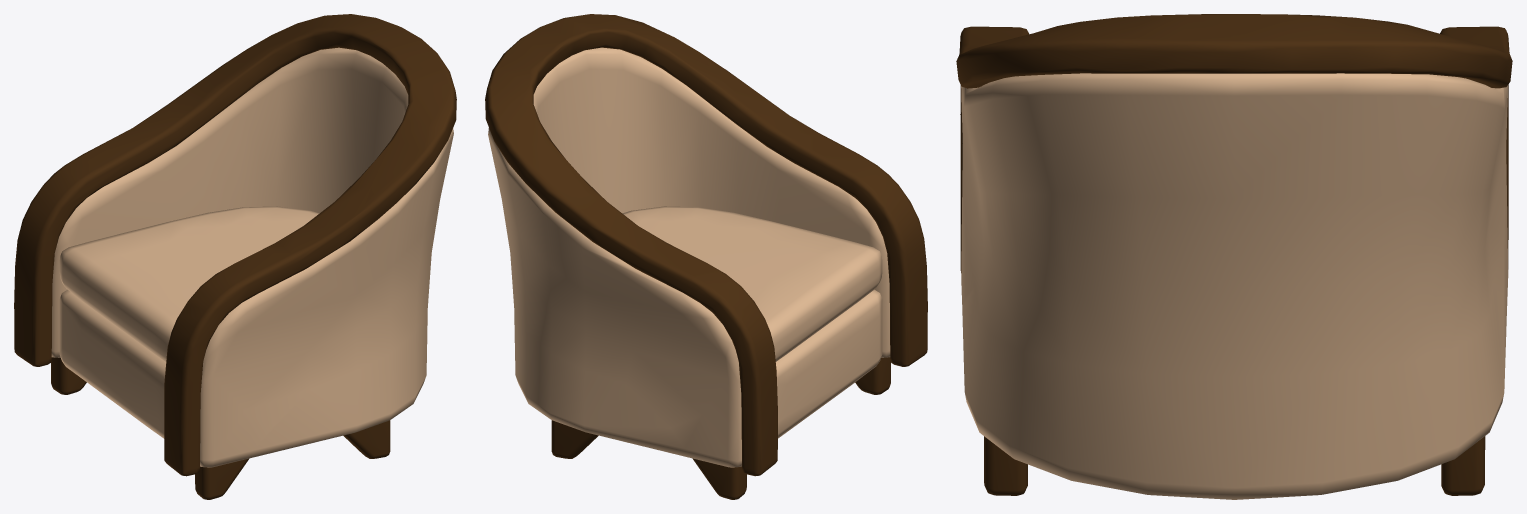
The model's file is armchair_03_beige.fbx.
3 views of the same model, side by side, from view 1: azimuth 30°, elevation 25°; view 2: azimuth 150°, elevation 25°; view 3: azimuth 270°, elevation 25° (orthographic). The views are drawn at different scales.
Visible parts, largest first — view 1: armchair_03_beige; view 2: armchair_03_beige; view 3: armchair_03_beige.
Boxes of the visible parts, <box> form: armchair_03_beige: <box>14,14,456,499</box>; armchair_03_beige: <box>485,14,927,499</box>; armchair_03_beige: <box>956,14,1512,499</box>.
Bounding box in the file's own units: 110 × 108 × 101.
Materials: 1 (1 with a texture image).
